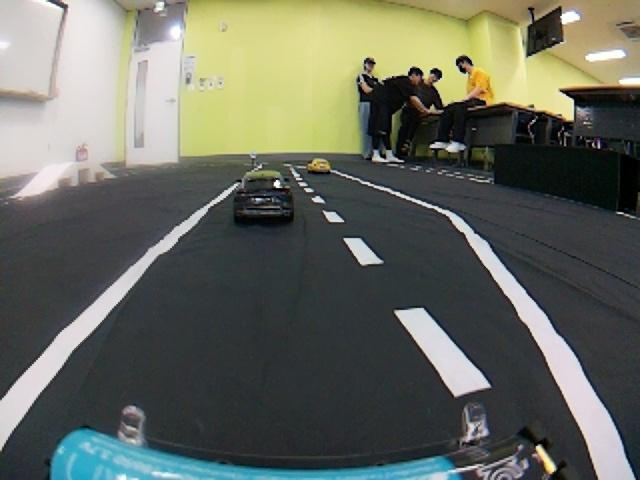objects: (0, 162, 636, 480)
